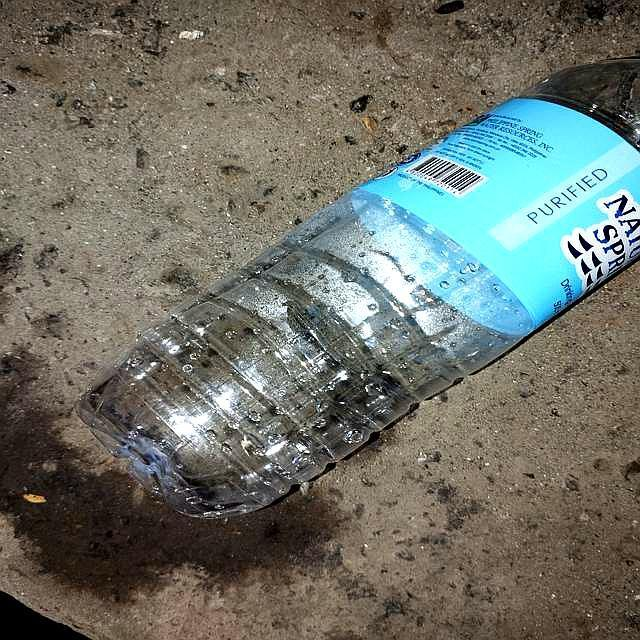Non-biodegradable: (73, 54, 639, 523)
